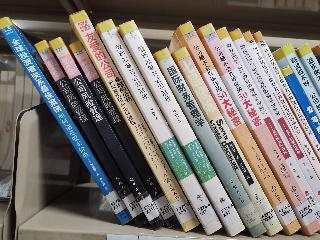book-spine: (68, 8, 201, 234), (0, 14, 134, 227), (117, 18, 247, 237), (94, 18, 223, 235), (178, 20, 302, 236), (199, 21, 320, 237), (49, 36, 165, 232), (32, 39, 150, 230), (152, 46, 268, 239), (171, 46, 285, 237), (67, 38, 179, 229), (215, 26, 320, 224), (229, 29, 320, 204), (242, 31, 320, 178), (252, 30, 320, 164), (278, 63, 320, 143), (278, 42, 320, 120), (294, 43, 320, 97)
